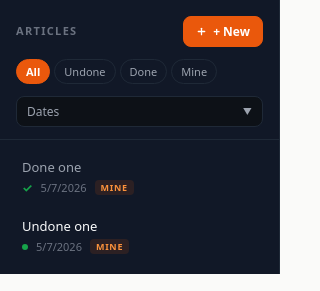
Test: Sidebar filters › 'Done' filter only shows marked_done=true
This screenshot has width=320, height=291.
Click the button "Done". click: (143,72)
box: [120,59,167,84]
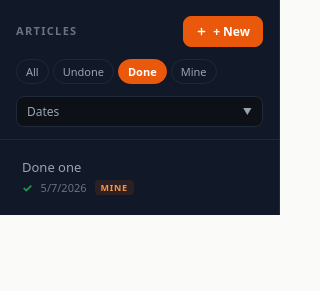
Expected: the text "Done one" is shown, [22,158,81,176]
Expected: the button "Undone one" is gone
